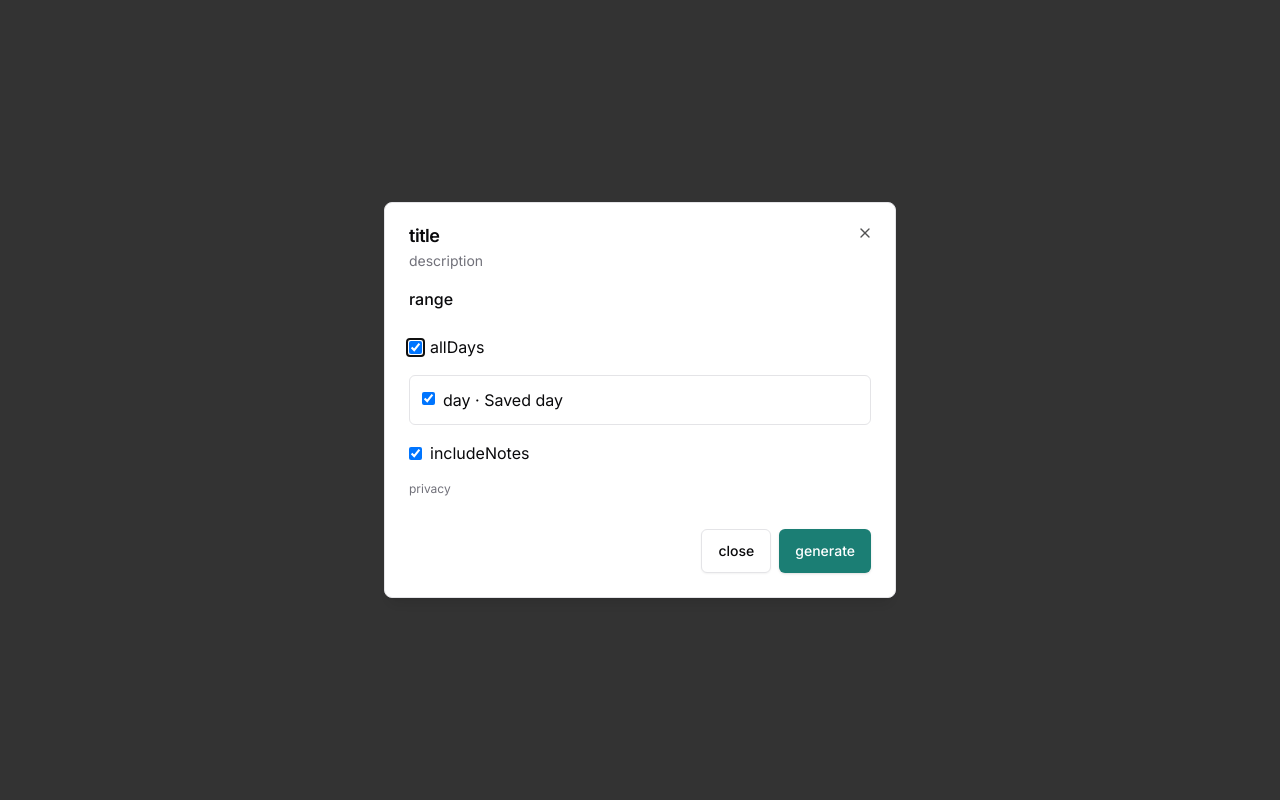
PDF export dialog › does not offer codes to public viewers and rejects an empty selection
The width and height of the screenshot is (1280, 800).
Click the checkbox labelled "allDays": (416, 347) [409,340,422,354]
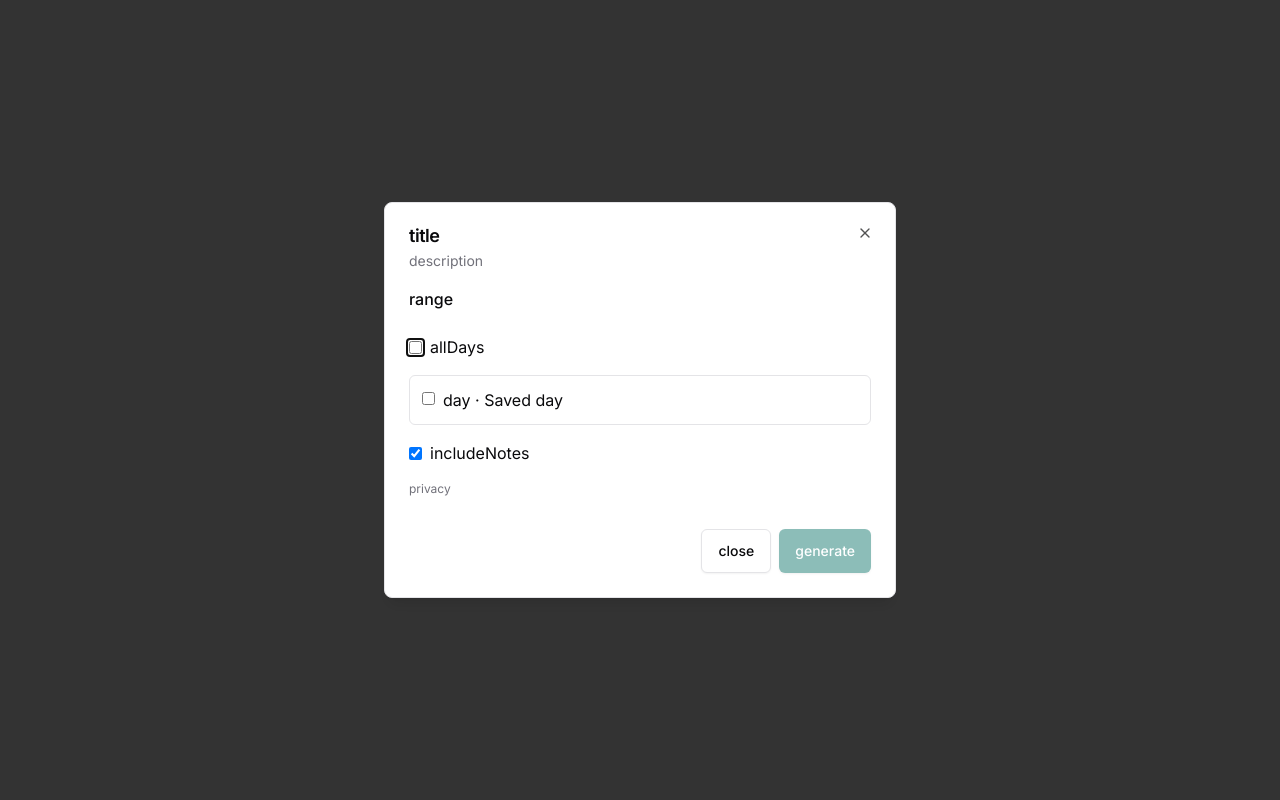
Expected: the button "generate" is disabled, [779,529,871,573]
